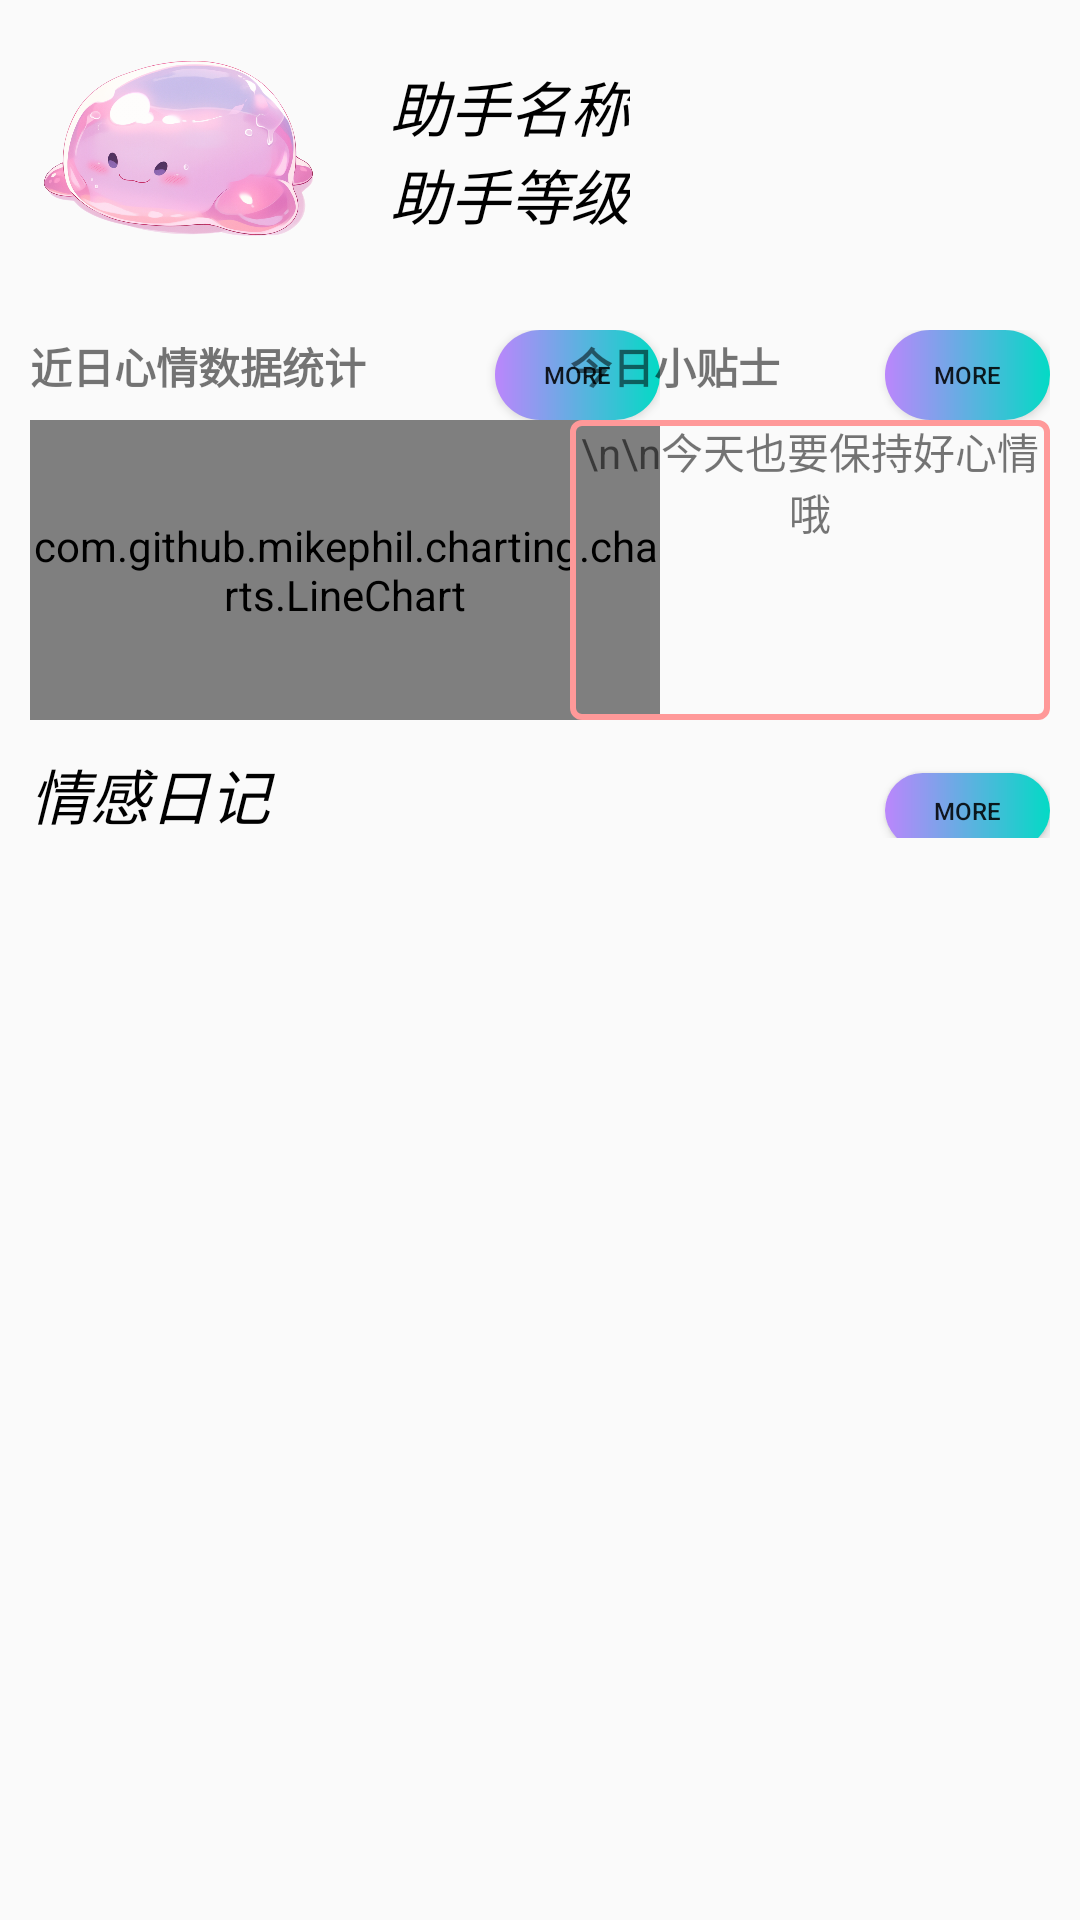

Named icons in this screenshot (1080 x 1920) and their centers, [x,y]:
assistant slime: [178,148]
